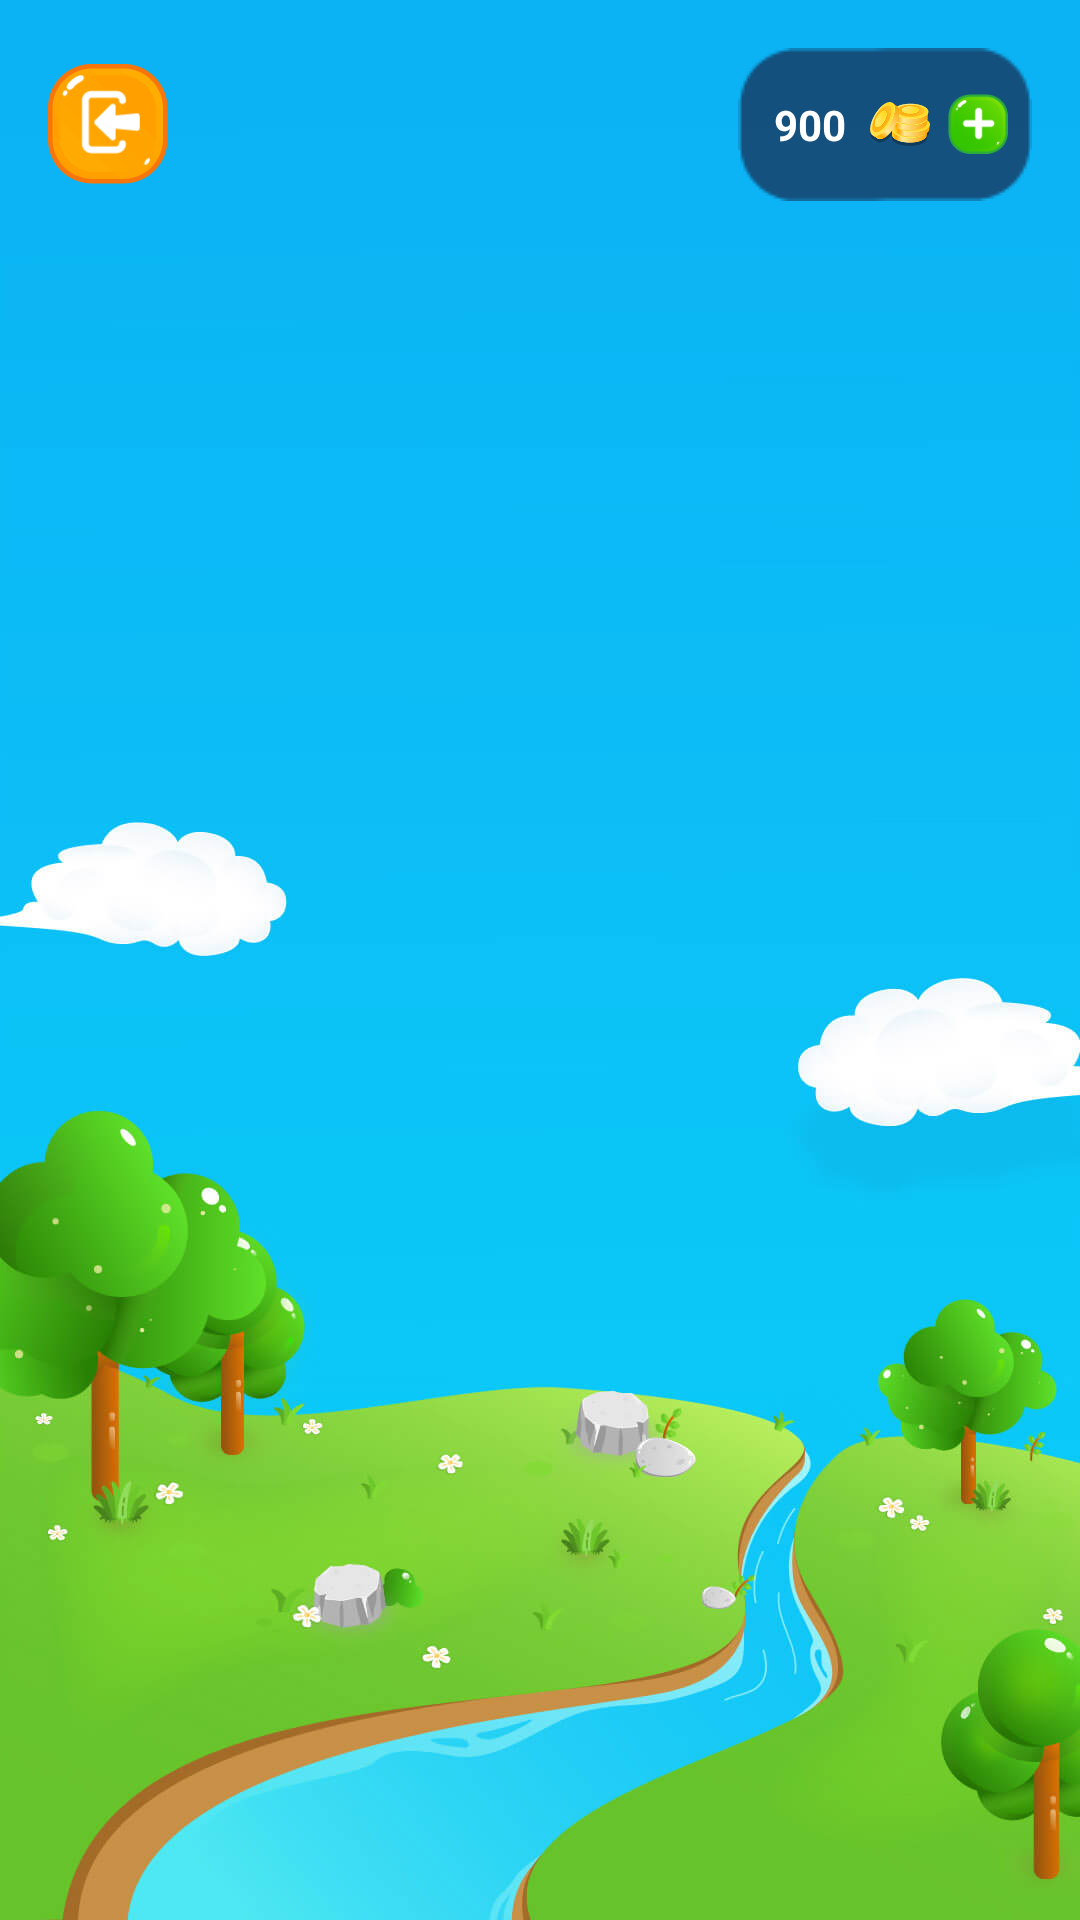

Icons on this 1080 × 1920 Android screen, each with the point to tap as [x,y]:
game coin: [900,124]
game coin add: [978,124]
game exit: [108,124]
